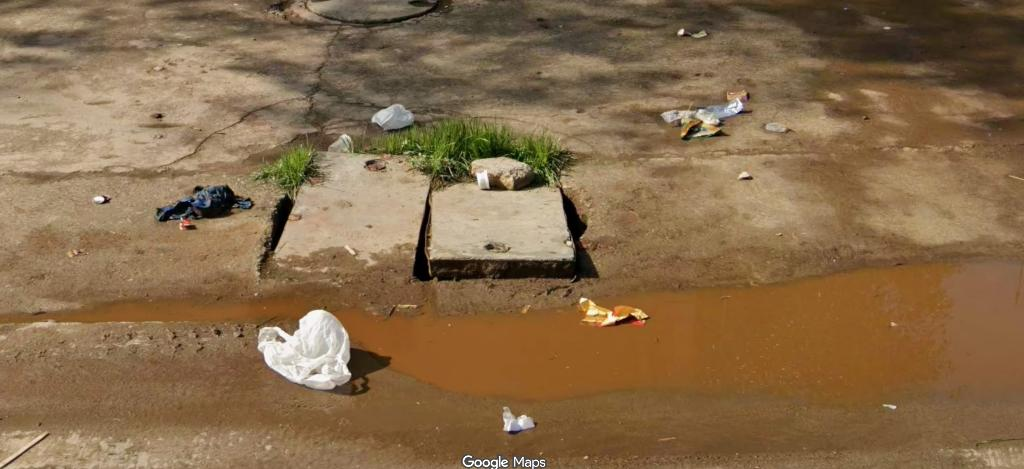garbage: (249, 306, 359, 394), (149, 181, 263, 229), (655, 94, 753, 144), (366, 101, 419, 136)
